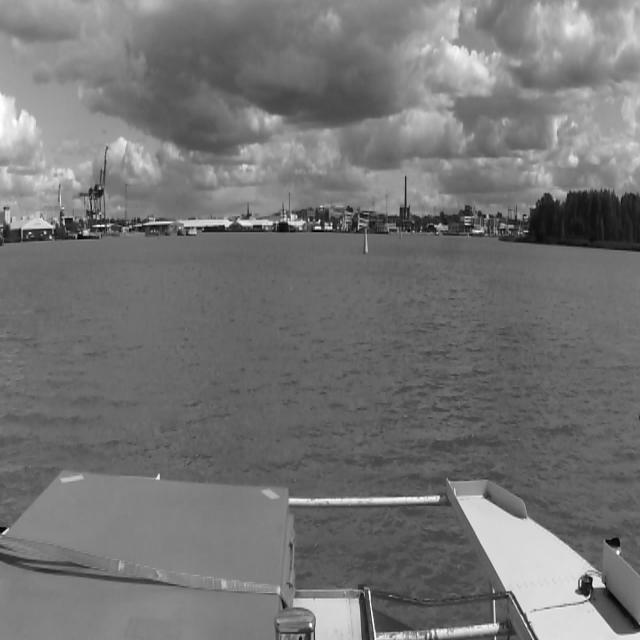buoy: (364, 229, 370, 255)
ship: (278, 202, 288, 235), (471, 225, 485, 237)
